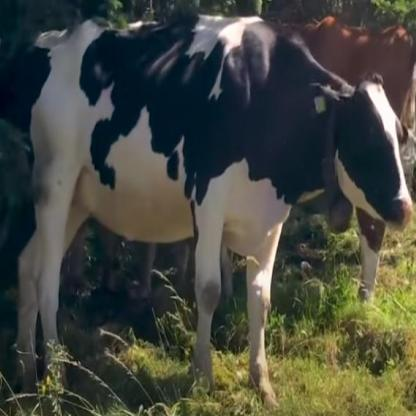cow: (18, 15, 416, 407), (262, 14, 416, 305)
